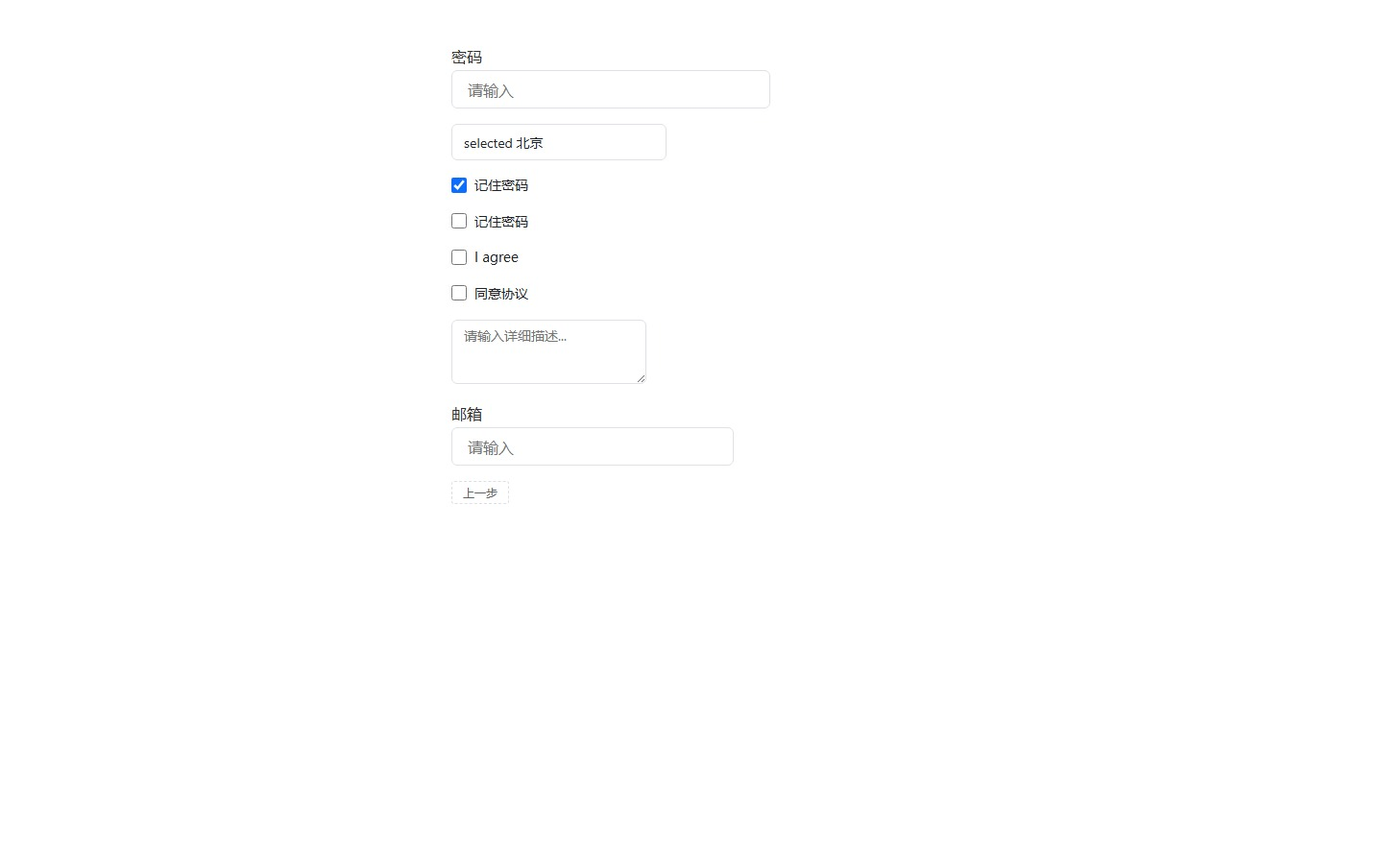button: (451, 481, 509, 504)
checkbox: (451, 177, 467, 192), (451, 213, 467, 228), (451, 249, 467, 264), (451, 285, 467, 300)
icon: (474, 176, 528, 194), (474, 212, 528, 230), (474, 284, 528, 302), (474, 248, 519, 266)
input: (451, 70, 770, 108), (451, 427, 734, 466)
radio: (451, 176, 528, 194), (451, 212, 528, 230), (451, 284, 528, 302), (451, 248, 519, 266)
select: (451, 124, 667, 160)
textarea: (451, 320, 646, 384)
